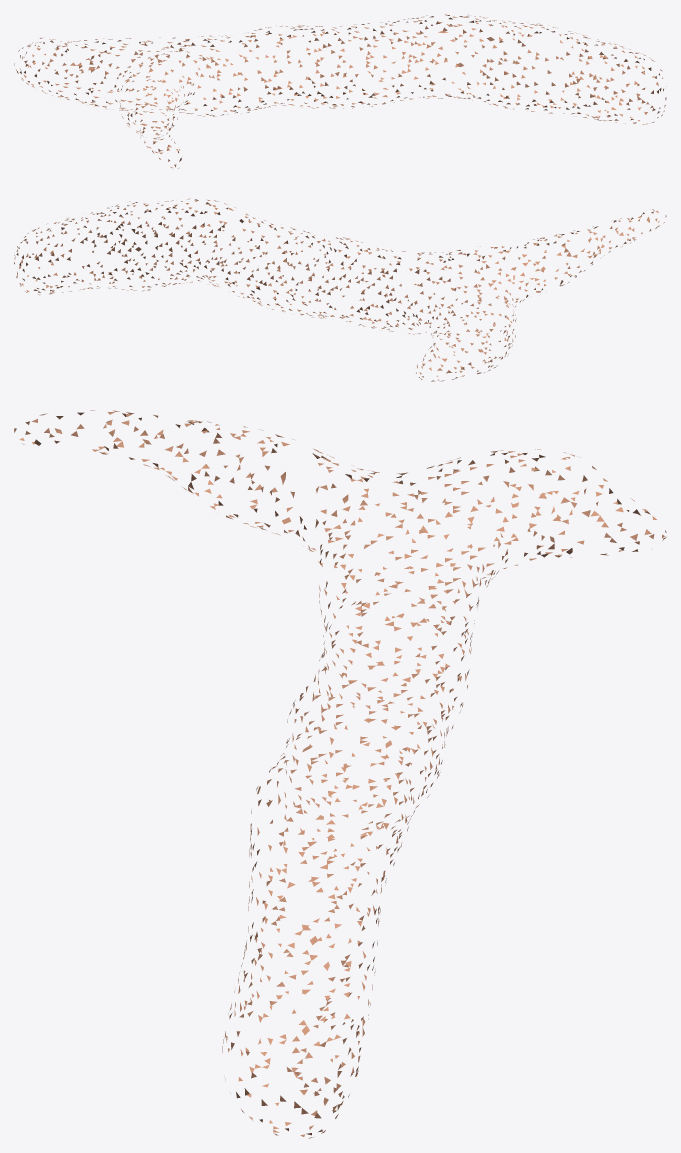
File: morph_004.glb
The picture shows the model from 3 angles, top to bottom: view 1: azimuth 30°, elevation 25°; view 2: azimuth 150°, elevation 25°; view 3: azimuth 270°, elevation 25°; orthographic projection. The views are drawn at different scales.
Size of the model in its own units: 99.44 by 28.19 by 58.24.
